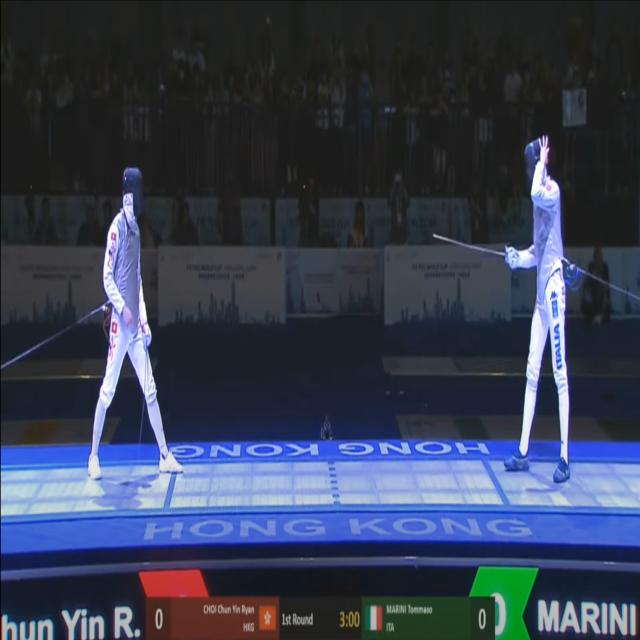fencer: (95, 176, 181, 503), (508, 138, 573, 484)
overlayLeft: (172, 599, 280, 640)
overlayRight: (362, 595, 468, 640)
scoreLeft: (146, 598, 172, 640)
scoreRight: (470, 595, 494, 640)
